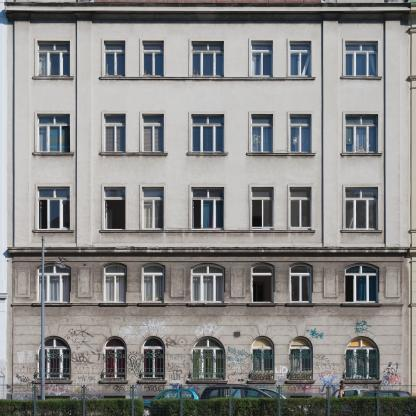Building Outline: (0, 0, 416, 408)
Facade: (0, 0, 416, 408)
Floor: (13, 179, 415, 248), (13, 257, 415, 325), (13, 35, 415, 99), (13, 108, 415, 171)
Floor Slab: (13, 26, 415, 35), (13, 248, 415, 257), (13, 171, 415, 180), (13, 99, 415, 108), (13, 325, 415, 334)
Ground Floor: (13, 334, 415, 408)
Pillar: (381, 12, 405, 247), (10, 11, 33, 247), (73, 11, 96, 247), (320, 12, 343, 247)
Sill: (100, 77, 316, 80), (100, 230, 316, 233), (246, 152, 316, 156), (99, 152, 168, 155), (33, 380, 74, 385), (188, 380, 229, 385), (341, 76, 383, 80), (341, 381, 383, 385), (341, 303, 383, 307), (33, 303, 74, 307), (188, 303, 229, 307), (247, 380, 278, 385), (286, 380, 316, 385), (138, 302, 168, 307), (99, 302, 129, 307), (32, 152, 74, 155), (341, 230, 383, 233), (341, 153, 383, 156), (247, 303, 278, 307), (138, 380, 168, 384), (99, 380, 129, 384), (286, 303, 316, 307), (32, 230, 75, 232), (32, 77, 74, 79), (187, 153, 229, 155)
Window: (191, 337, 225, 380), (345, 186, 378, 230), (37, 186, 70, 230), (191, 187, 224, 230), (345, 337, 378, 380), (37, 337, 70, 380), (345, 114, 378, 153), (191, 114, 224, 153), (345, 264, 378, 303), (37, 264, 70, 303), (191, 264, 224, 303), (37, 114, 70, 152), (37, 41, 70, 77), (345, 41, 378, 76), (191, 41, 224, 76), (252, 186, 274, 230), (290, 187, 312, 230), (290, 337, 312, 380), (104, 337, 126, 380), (142, 337, 164, 380), (104, 186, 125, 230), (143, 186, 164, 230), (252, 337, 273, 380), (104, 264, 126, 303), (251, 264, 273, 303), (104, 114, 126, 152), (142, 114, 164, 152), (251, 114, 273, 152), (142, 264, 164, 302), (290, 264, 311, 303), (290, 114, 311, 152), (142, 41, 164, 77), (251, 41, 273, 77), (290, 41, 311, 77), (104, 41, 125, 77)
